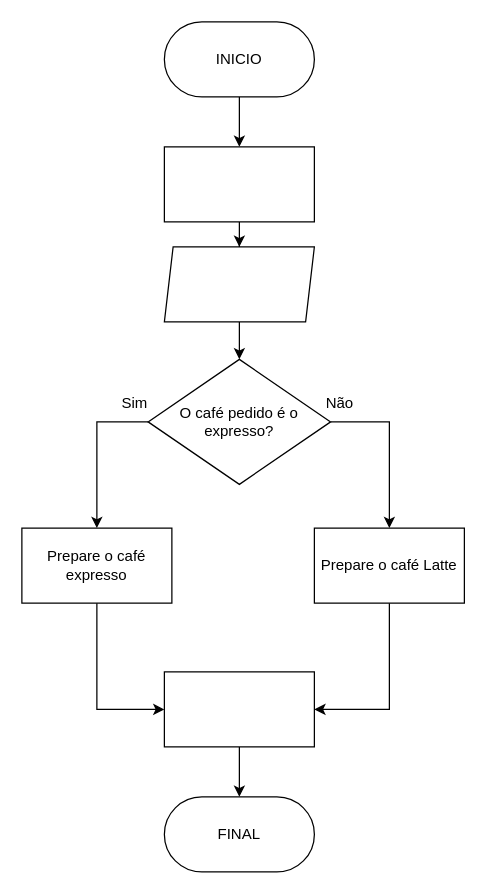
The diagram is 486 pixels wide and 894 high, and some of its shapes have lost their labels. Each missing label, with the centre of its shape:
"Chegada do Cliente" belongs at (238,184).
"Entregue ao cliente" belongs at (238,709).
"Pedir ao cliente qual café ele quer" belongs at (238,284).
